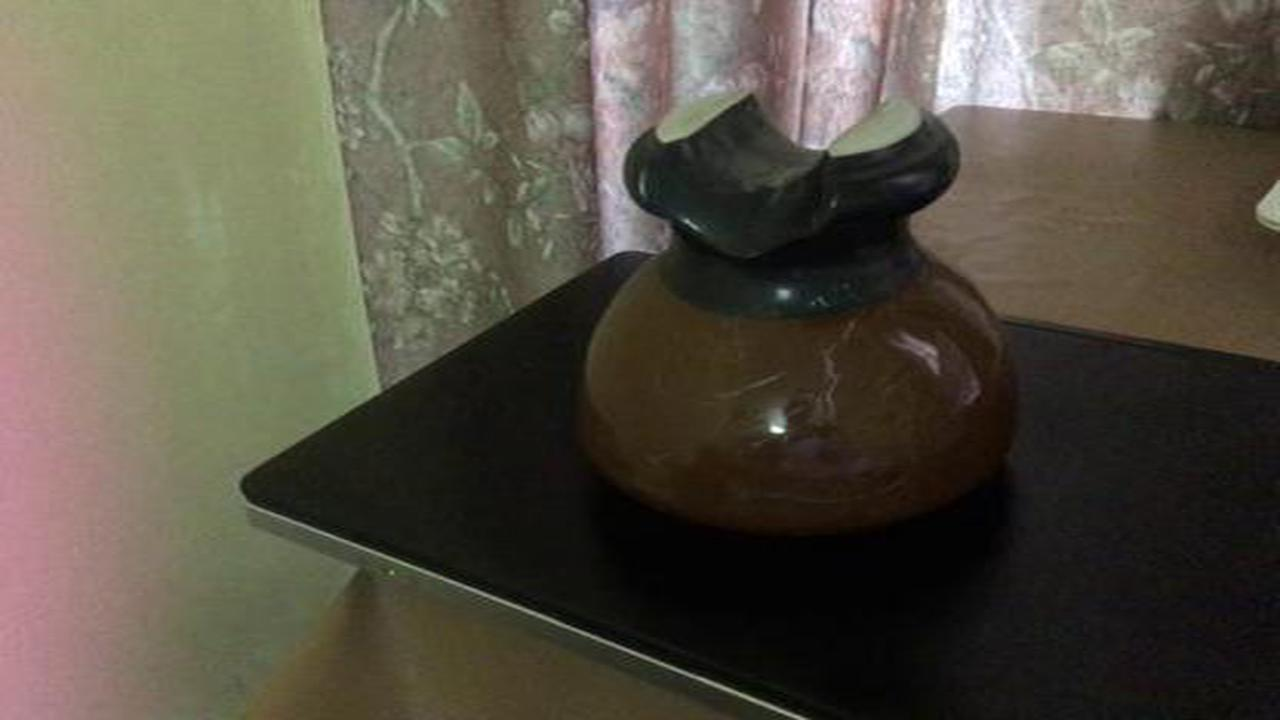insulator_pin: (557, 80, 1044, 558)
